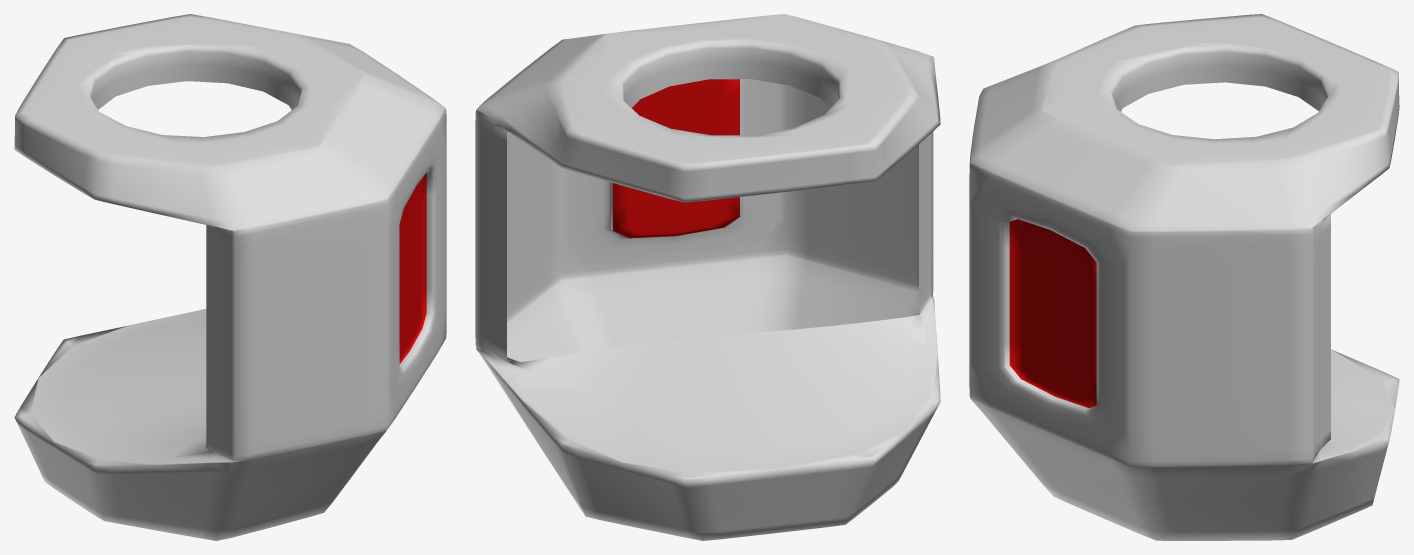
The model's file is teslaBody.fbx.
3 renders of one model, left to right at view 1: azimuth 30°, elevation 25°; view 2: azimuth 150°, elevation 25°; view 3: azimuth 270°, elevation 25°, orthographic. The views are drawn at different scales.
Parts seen in each view (by area): view 1: teslaBody; view 2: teslaBody; view 3: teslaBody.
Part boxes in pixels (x1=…): teslaBody: x1=14, y1=14, x2=446, y2=540; teslaBody: x1=475, y1=14, x2=940, y2=540; teslaBody: x1=969, y1=14, x2=1399, y2=540.
Size of the model in its own units: 0.2753 by 0.2676 by 0.2738.
